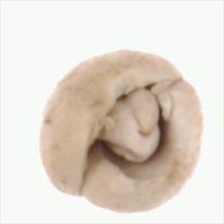L3: (86, 79, 168, 179)
L4: (41, 50, 203, 213)
